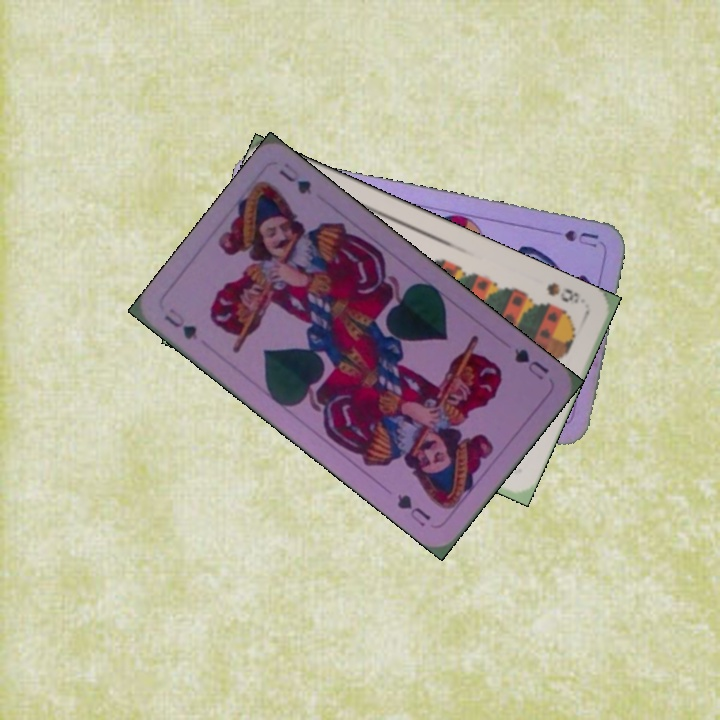GU: (510, 343, 552, 383), (159, 304, 200, 343)
S8: (542, 278, 583, 307)
SU: (542, 225, 601, 250)
